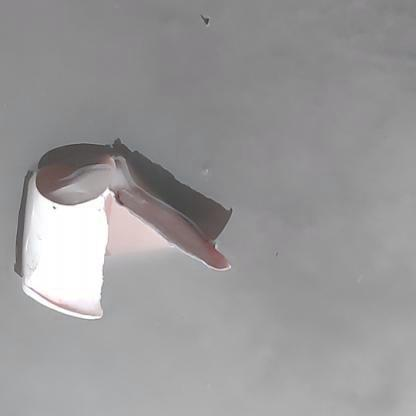Trash: (0, 158, 232, 319)
